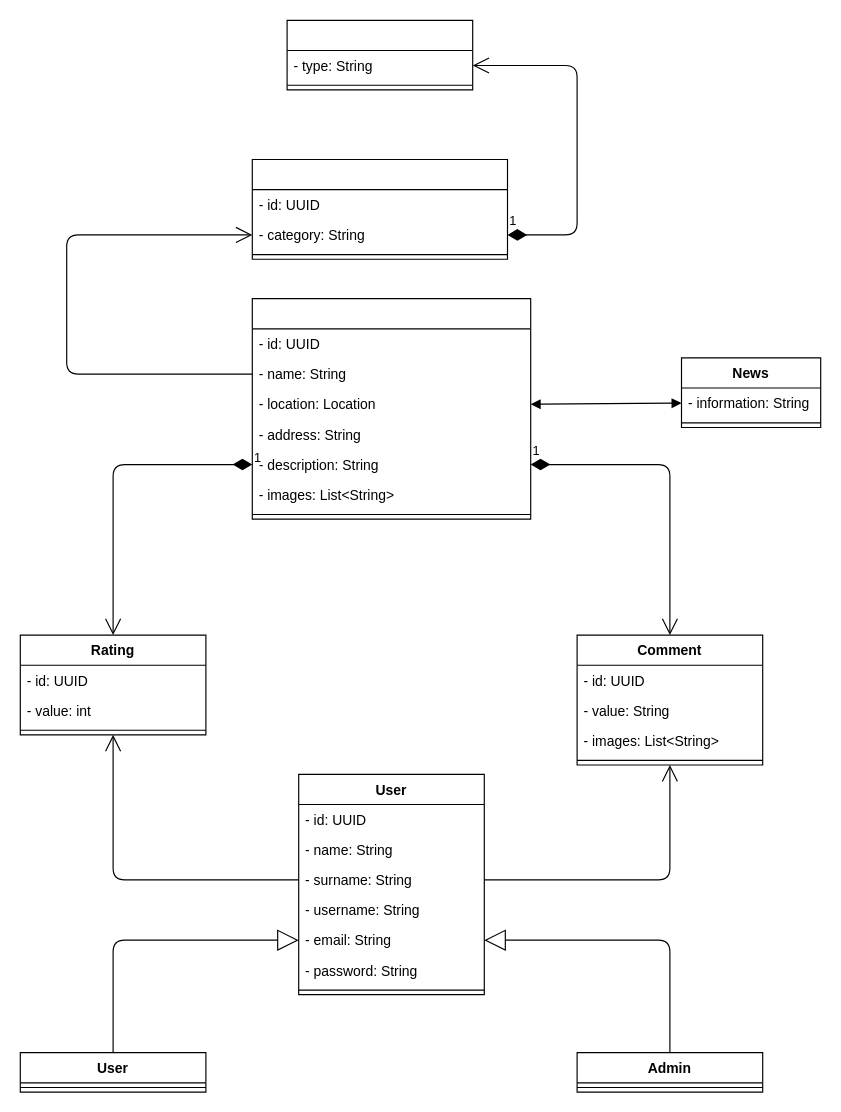
Image size: 841x1112. Some labels were removed from this diagram. The shapes that lost their labels are listed below. From the top down, each one's box as (x1, y1, x2, y2) in pixels, then its label:
(286, 19, 473, 90): CulturalCategoryType
(251, 158, 507, 259): CulturalSiteCategory
(251, 298, 531, 519): CulturalSite
